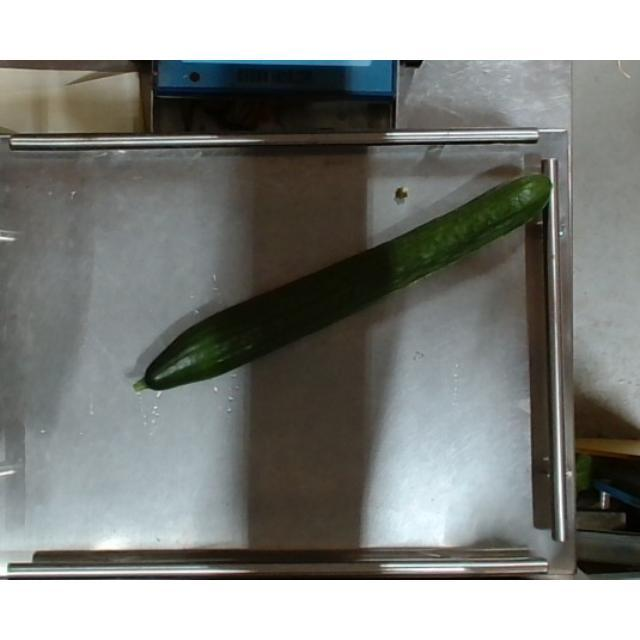cucumber: (133, 178, 555, 394)
